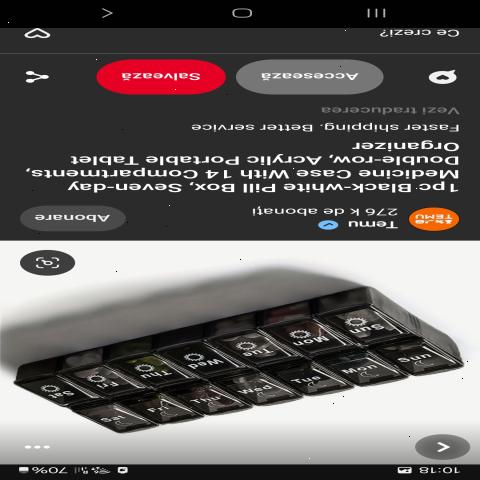PillBox: (12, 282, 451, 445)
